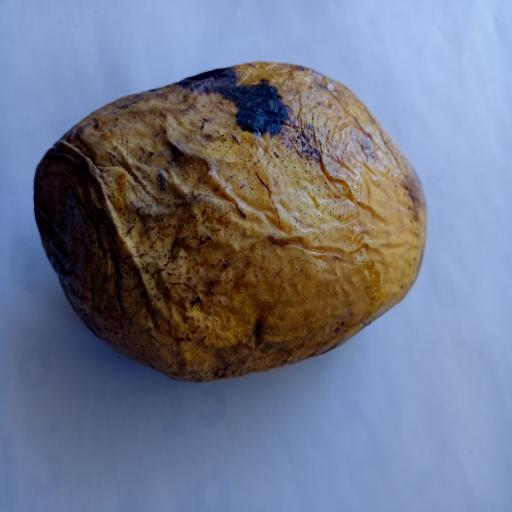mango-overripe: (27, 43, 442, 403)
